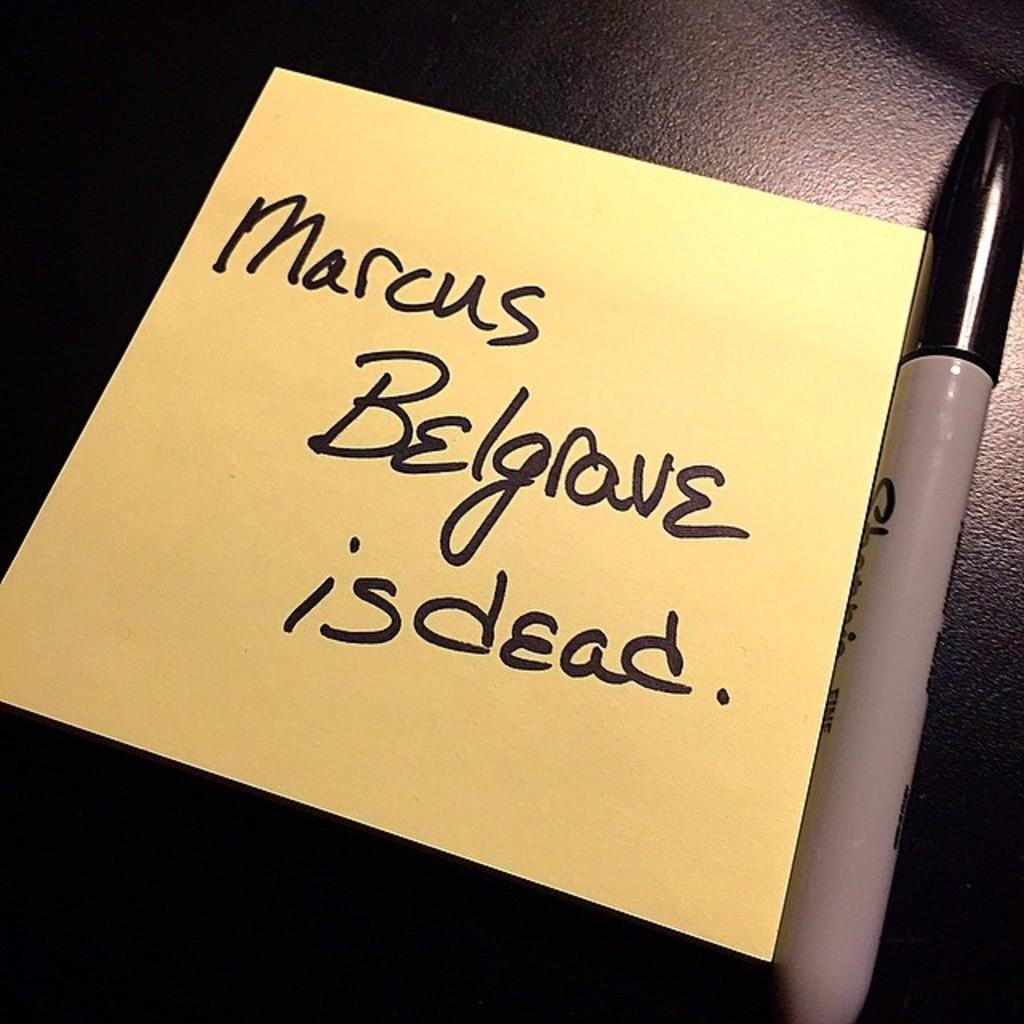pen: (766, 32, 1022, 1022)
